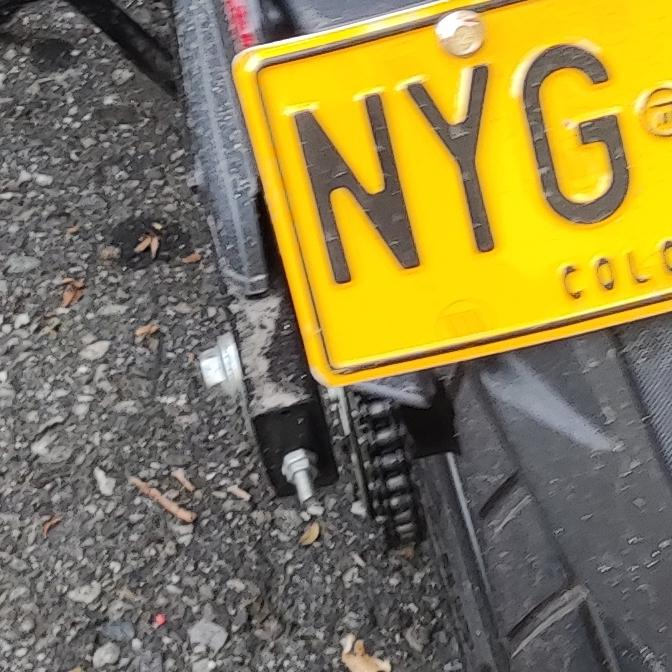plates: (232, 0, 672, 397)
